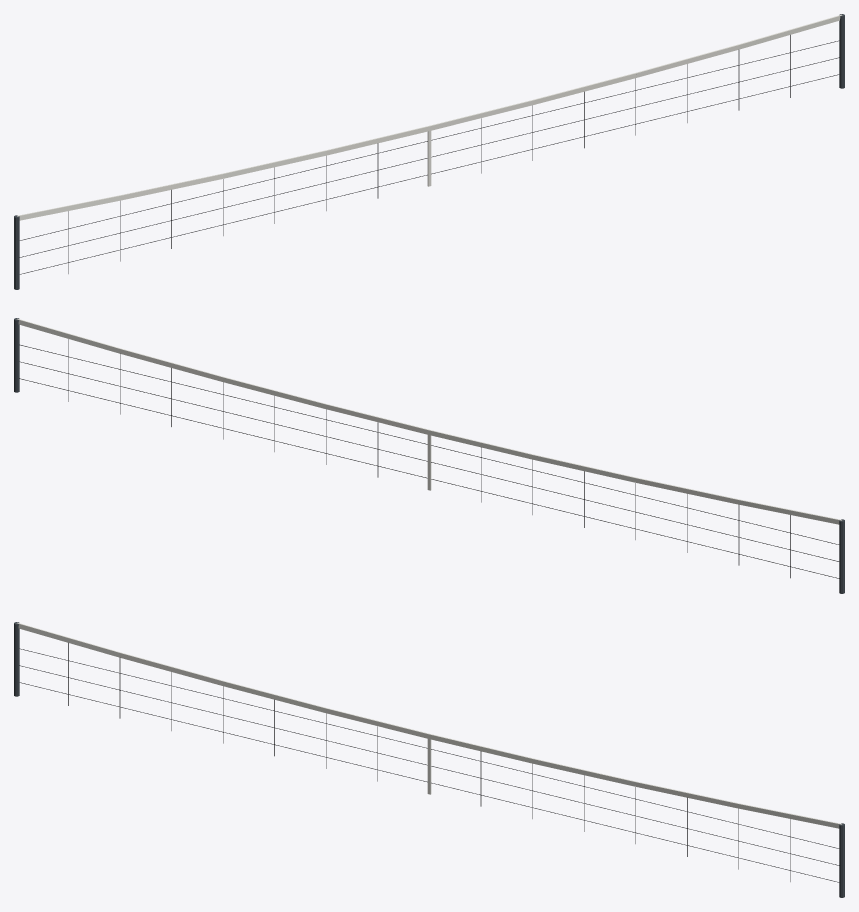
File: GS_TennisNet_01.glb
The picture shows the model from 3 angles, top to bottom: view 1: azimuth 30°, elevation 25°; view 2: azimuth 150°, elevation 25°; view 3: azimuth 330°, elevation 25°; orthographic projection.
Visible parts, largest first — view 1: GS_TennisNet_01; view 2: GS_TennisNet_01; view 3: GS_TennisNet_01.
Boxes of the visible parts, x1=… form: GS_TennisNet_01: x1=14, y1=14, x2=844, y2=289; GS_TennisNet_01: x1=14, y1=318, x2=844, y2=593; GS_TennisNet_01: x1=14, y1=622, x2=844, y2=897.
Bounding box in the file's own units: 12.88 × 1.08 × 0.08.
1 material, 1 textured.
